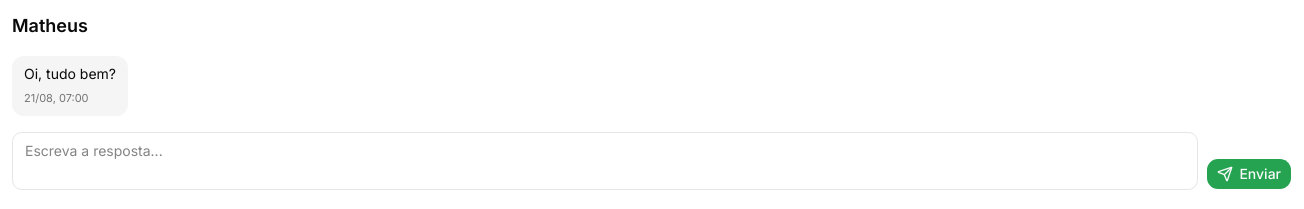
Test: thread › envia o que foi escrito e limpa a caixa
This screenshot has width=1304, height=209.
Type "Bom dia" into the text box named "Mensagem" at point(605, 161), box x1=12 y1=132 x2=1198 y2=190
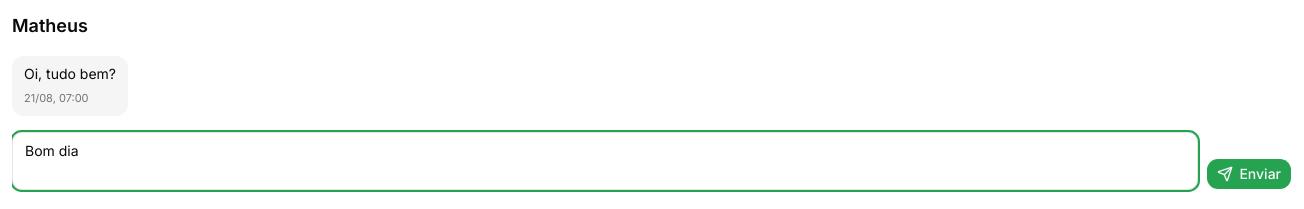
Click the button "Enviar" at point(1249, 174), box x1=1206 y1=158 x2=1292 y2=190
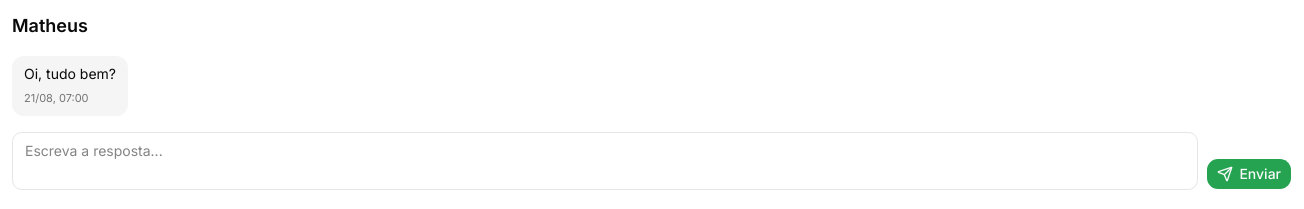
Expected: the text box named "Mensagem" is empty, x1=12 y1=132 x2=1198 y2=190
